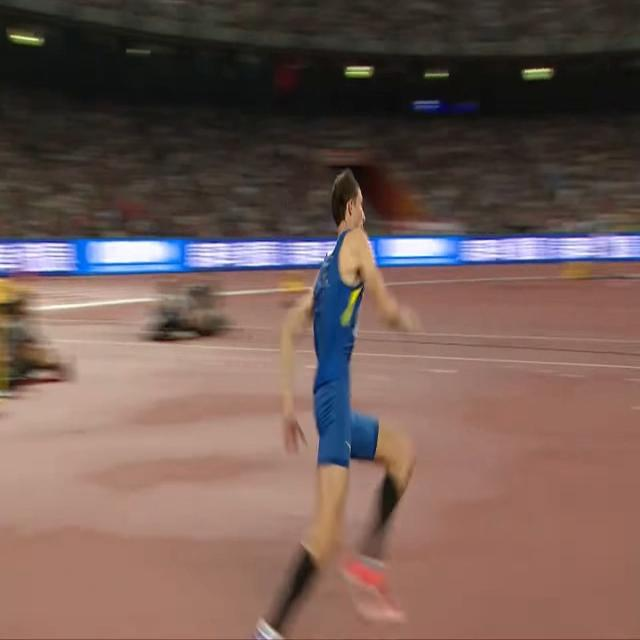run: (255, 166, 421, 640)
